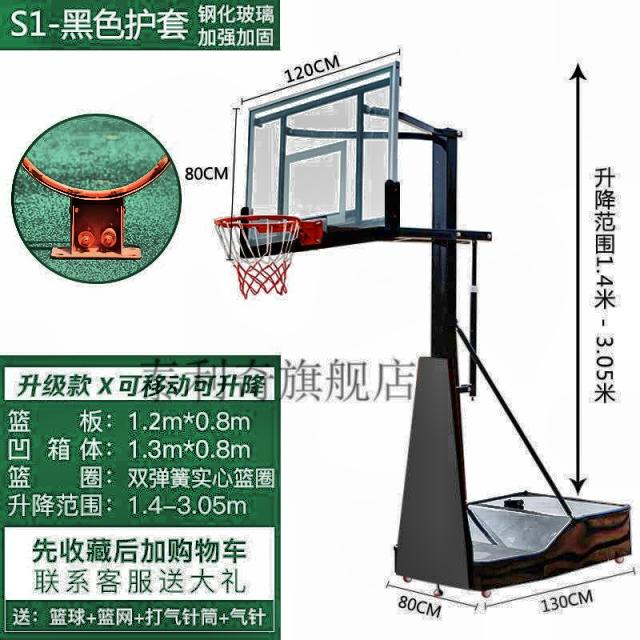rim: (212, 216, 303, 296)
